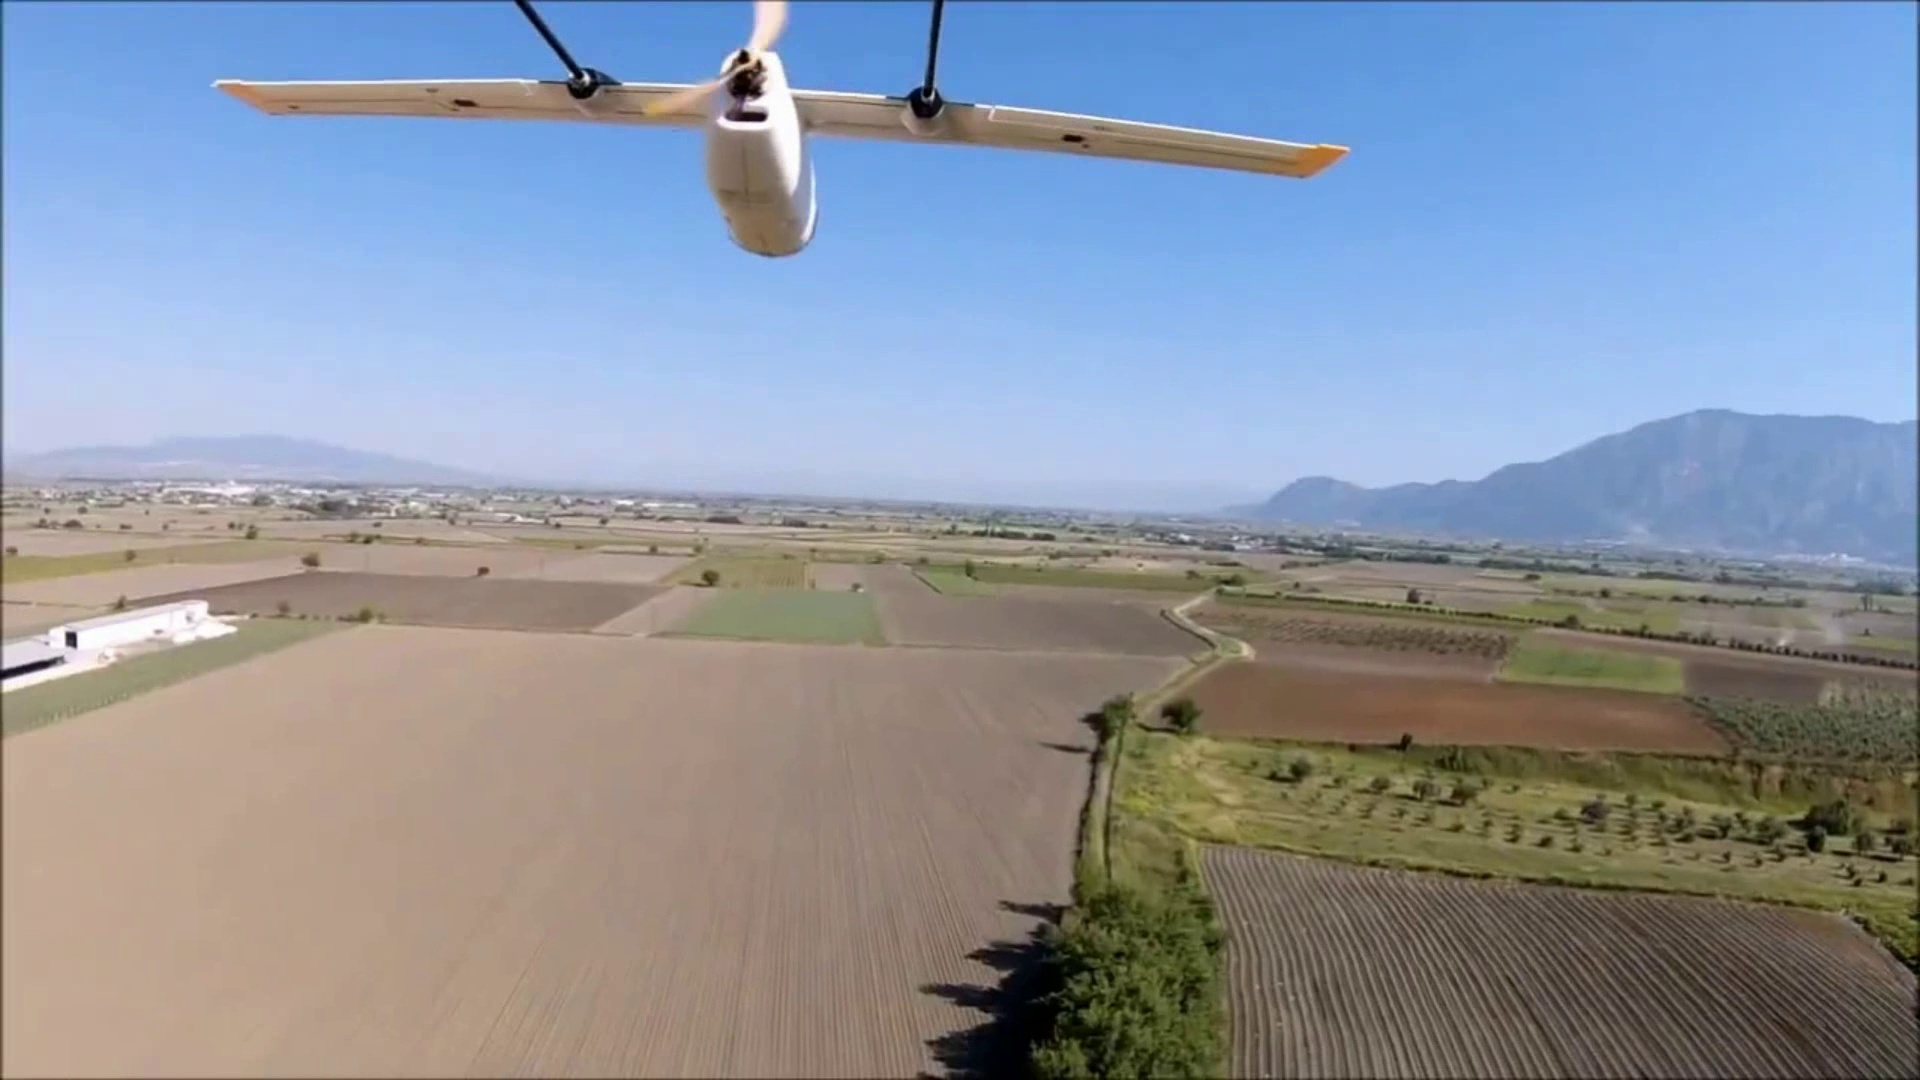airplane: (212, 5, 1346, 257)
